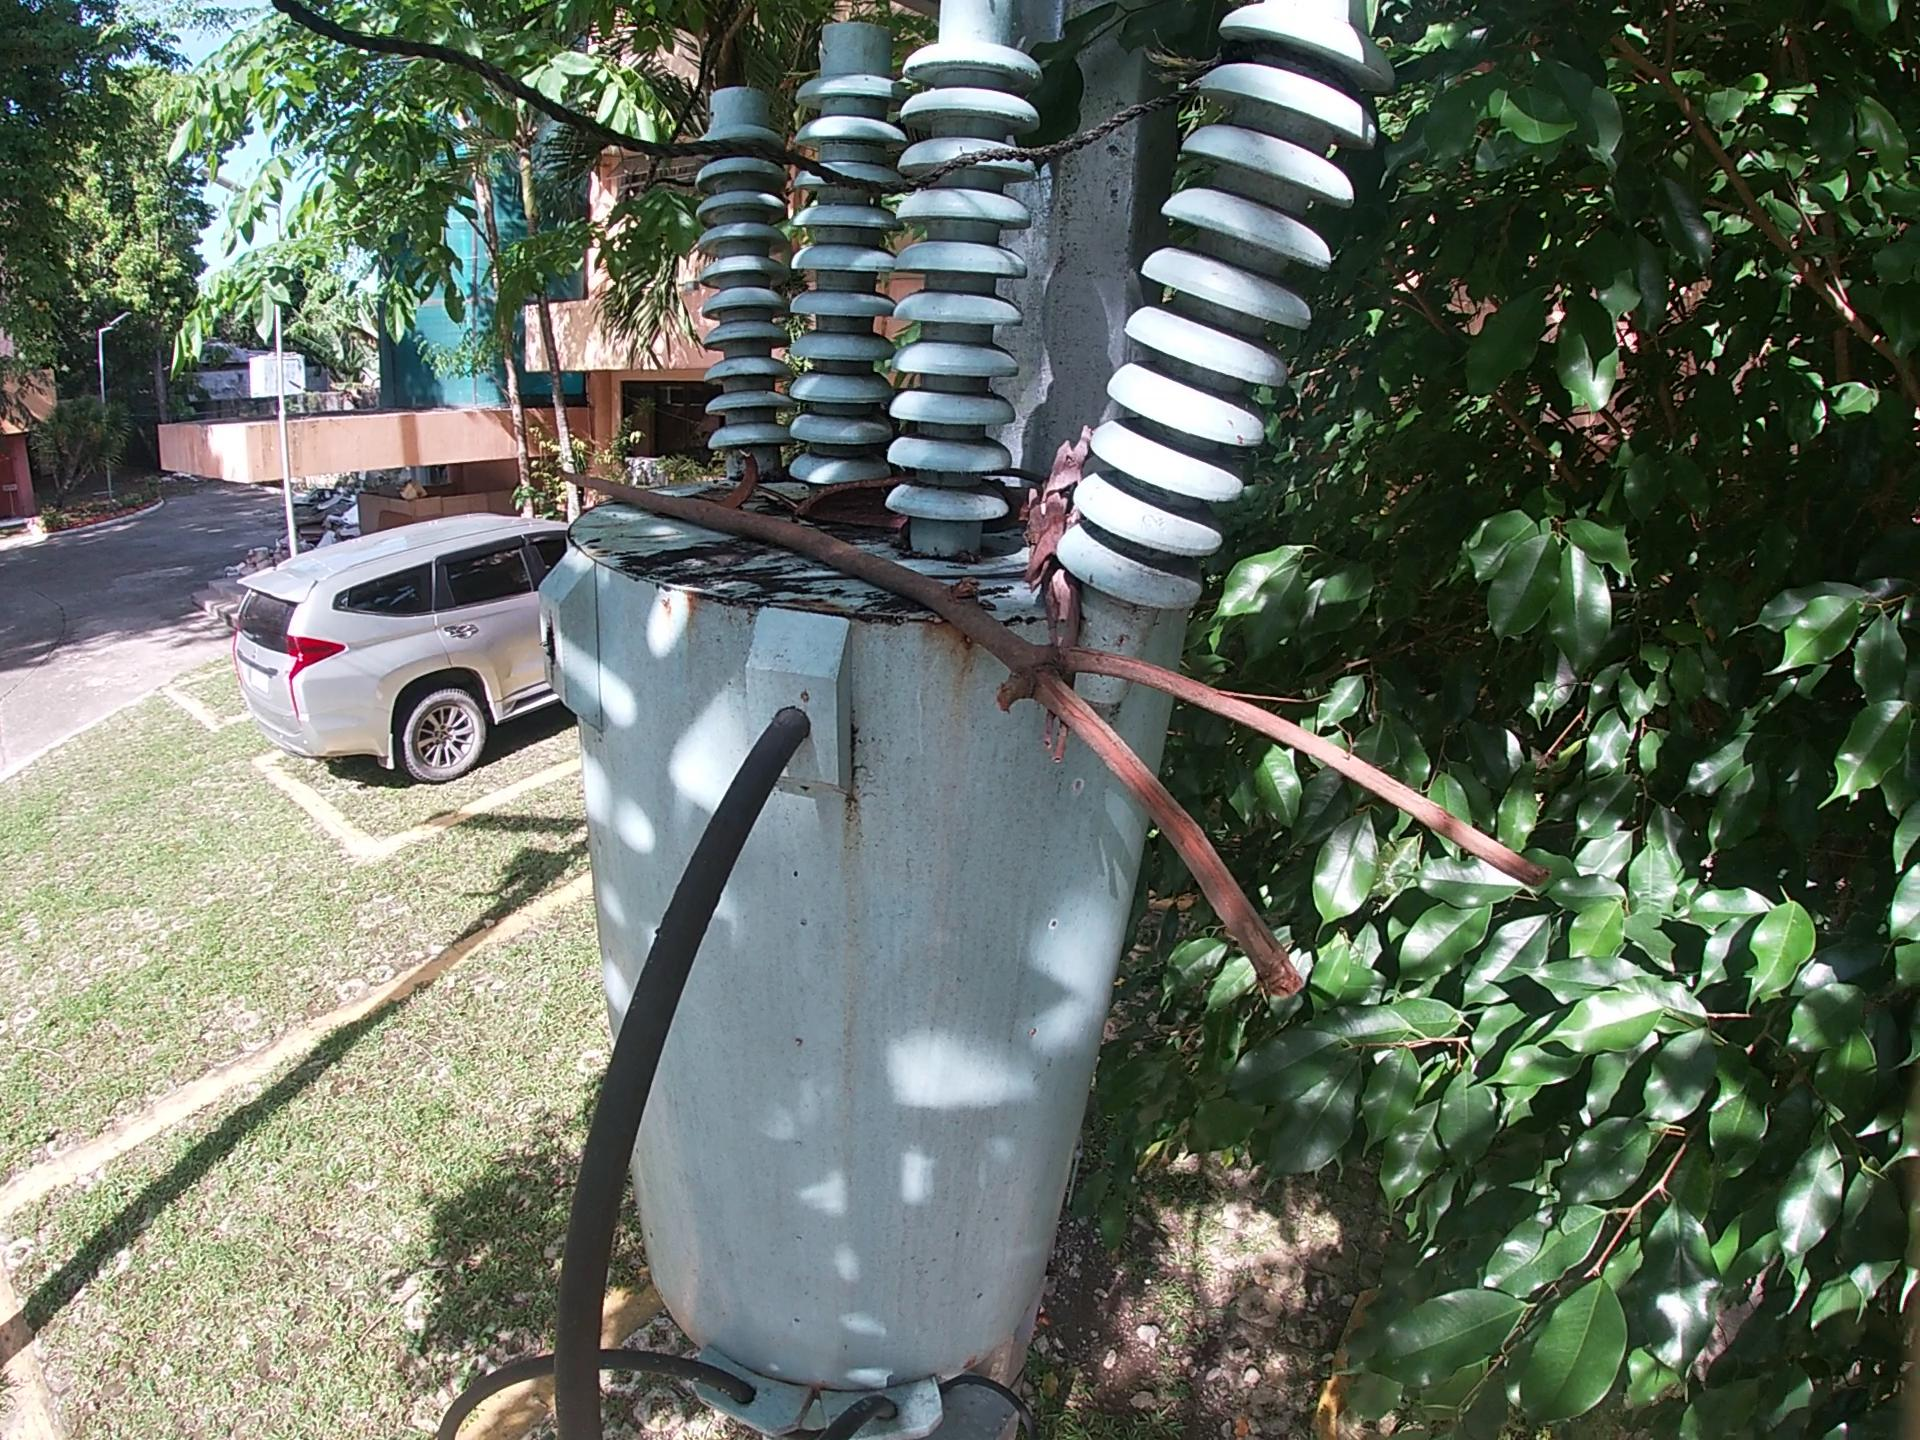mahogany fruit: (792, 484, 919, 535), (714, 439, 770, 507)
tree branch: (553, 472, 1587, 1004), (1033, 425, 1089, 806), (980, 463, 1070, 487)
